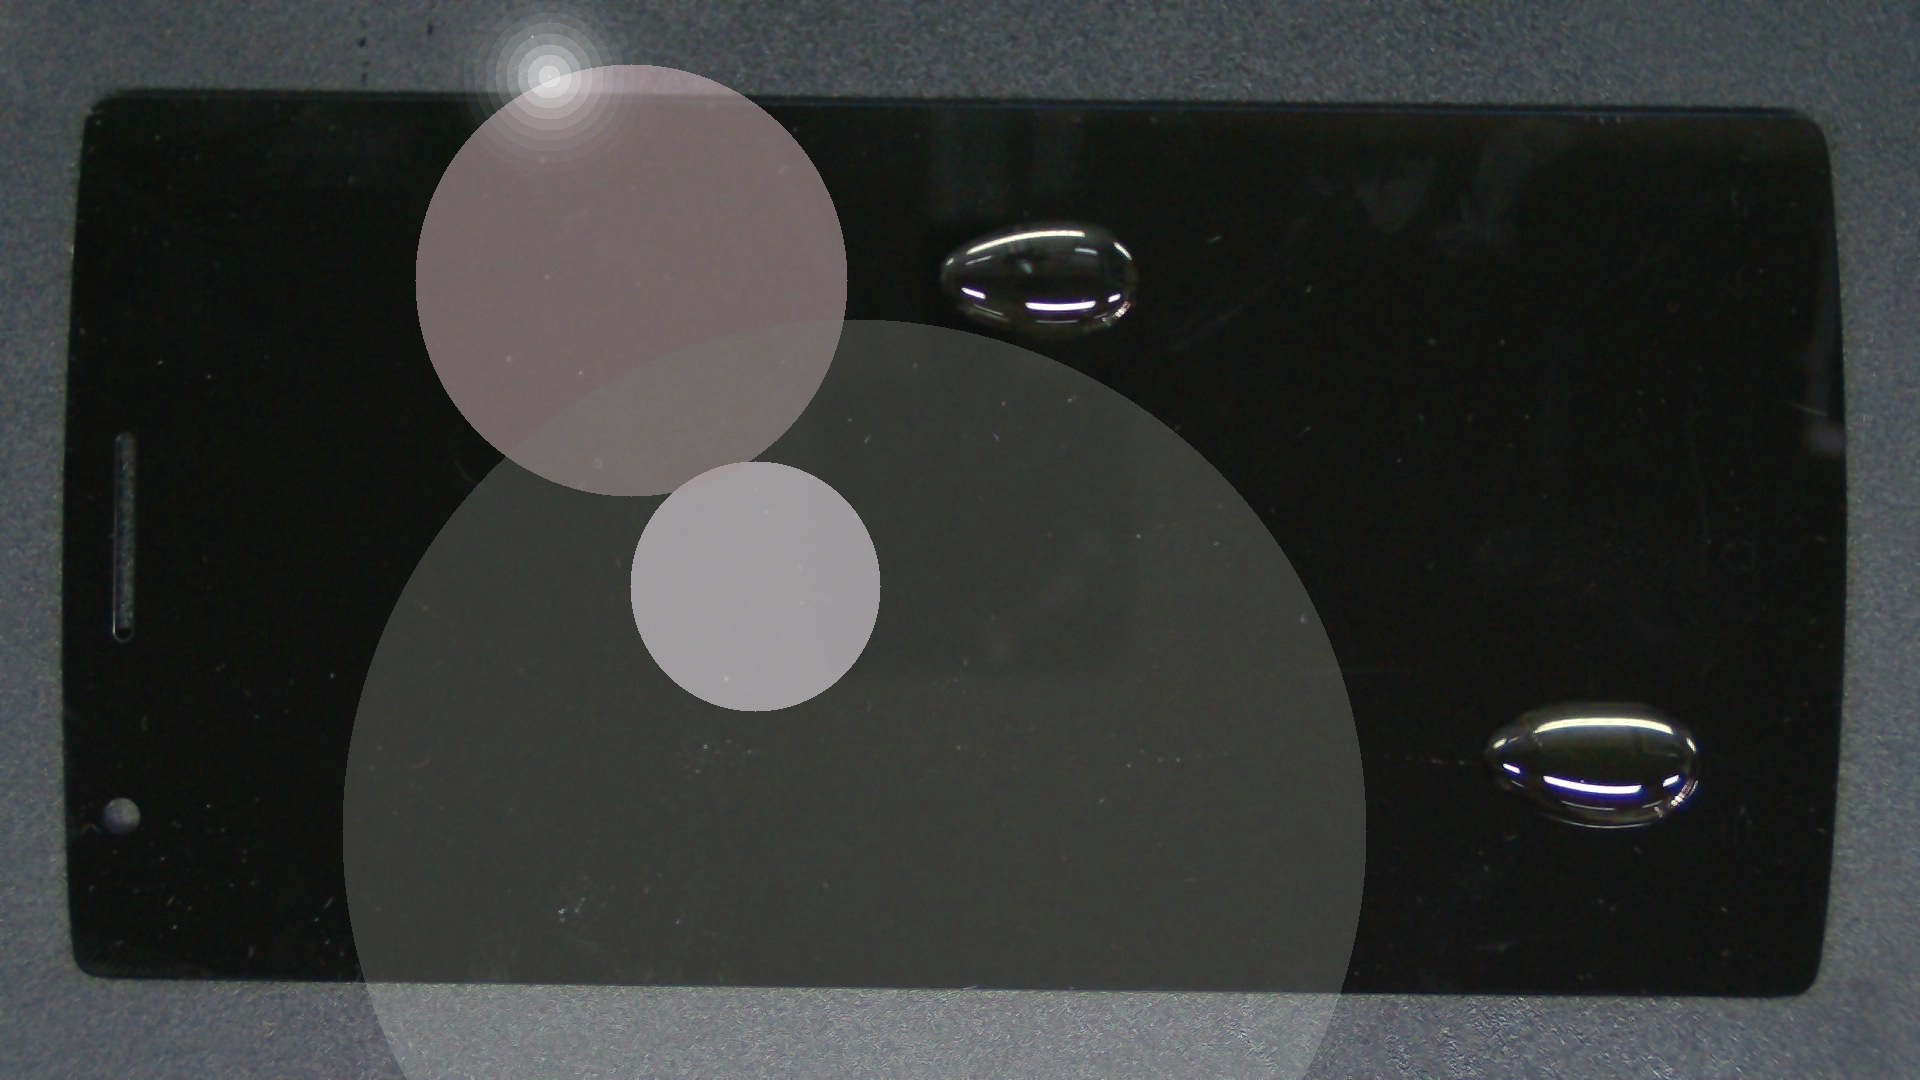oil: (783, 349, 1920, 1052), (525, 109, 1572, 332)
